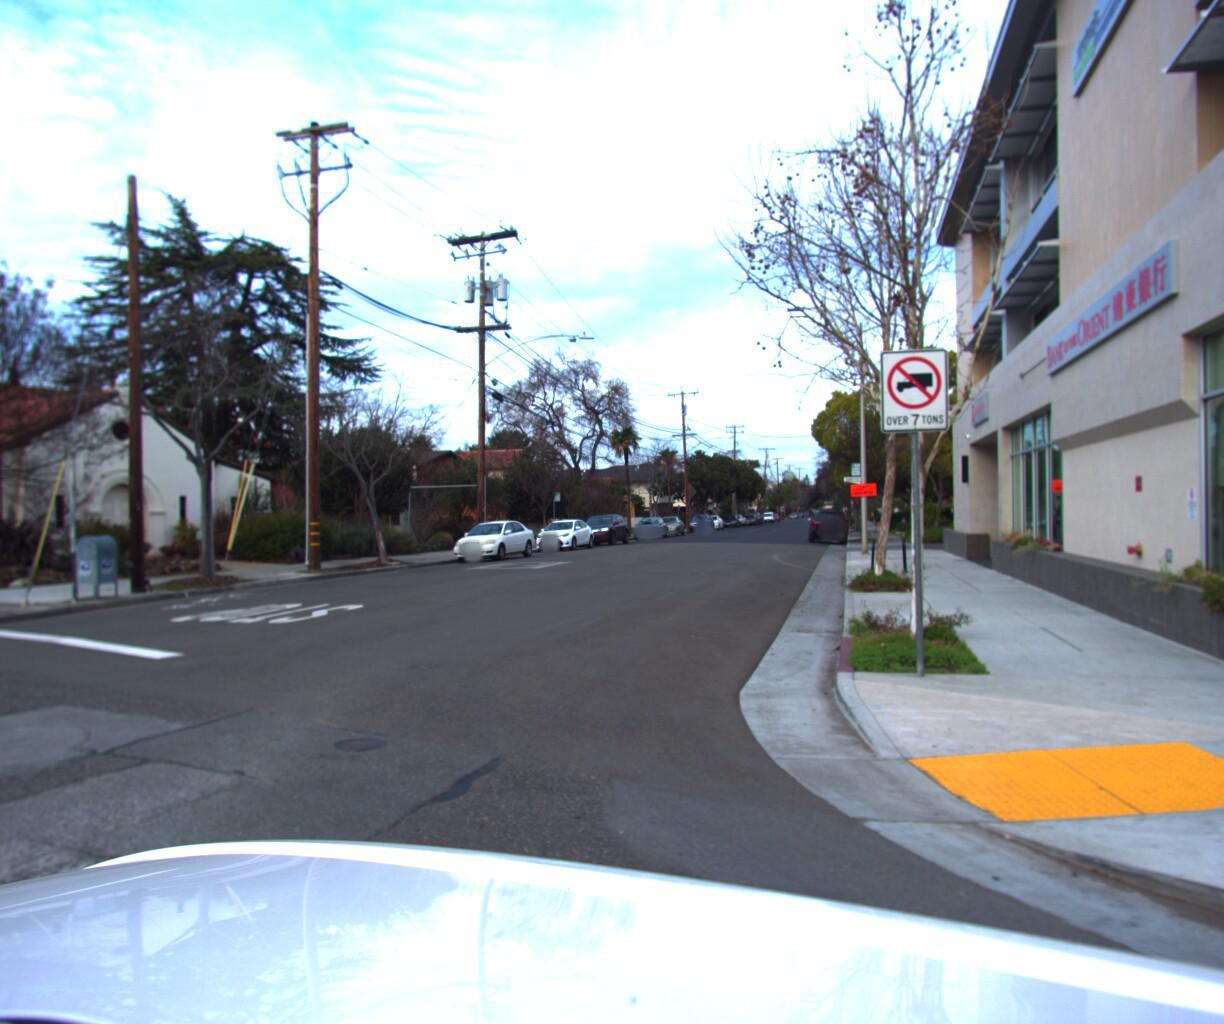car: (443, 517, 537, 563), (527, 514, 595, 551), (570, 513, 631, 545), (803, 505, 846, 544), (631, 514, 670, 539), (647, 513, 686, 537), (685, 511, 715, 531), (699, 510, 726, 529)
